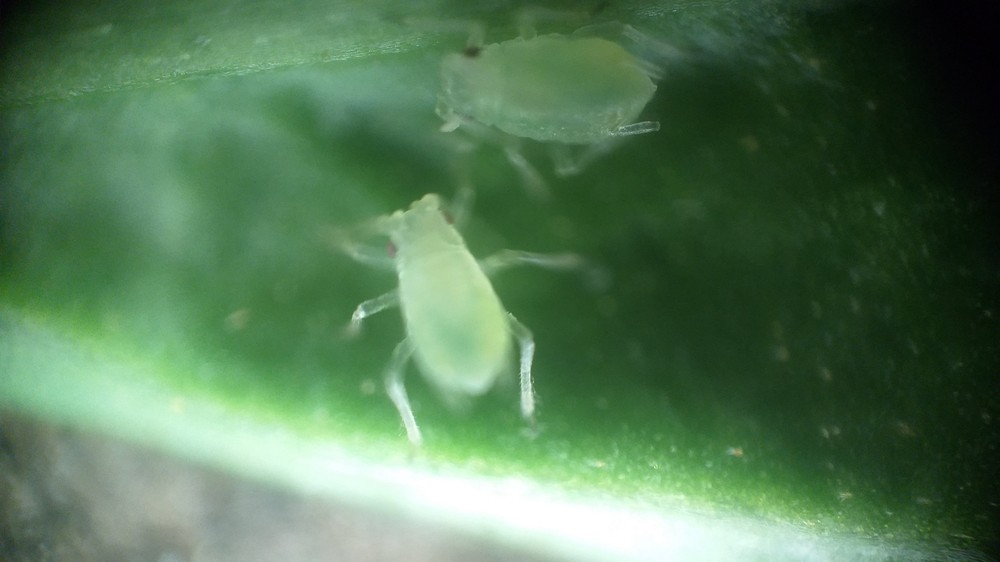Pulgon: (311, 184, 599, 466), (400, 9, 723, 208)
